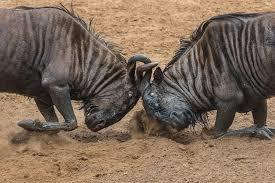Non_Gorille: (14, 1, 264, 164)
